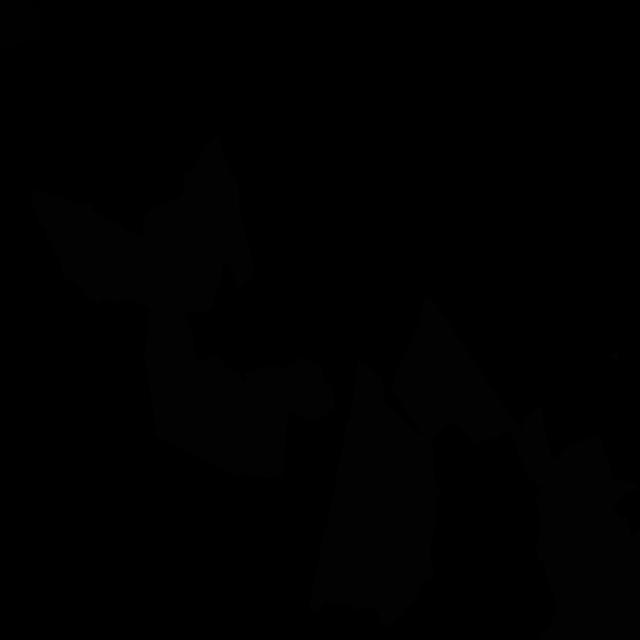cardboard: (142, 136, 335, 478), (309, 359, 440, 627), (520, 405, 640, 640), (391, 296, 520, 458), (31, 189, 168, 316), (608, 352, 620, 365)
